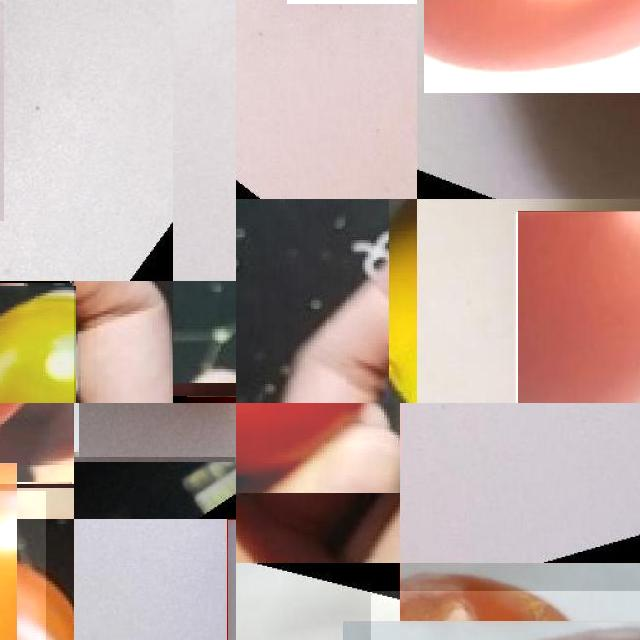0: (236, 403, 400, 493)
Fresh Tomato: (516, 212, 640, 403), (424, 0, 640, 93)
Rotten Tomato: (0, 283, 74, 403)
